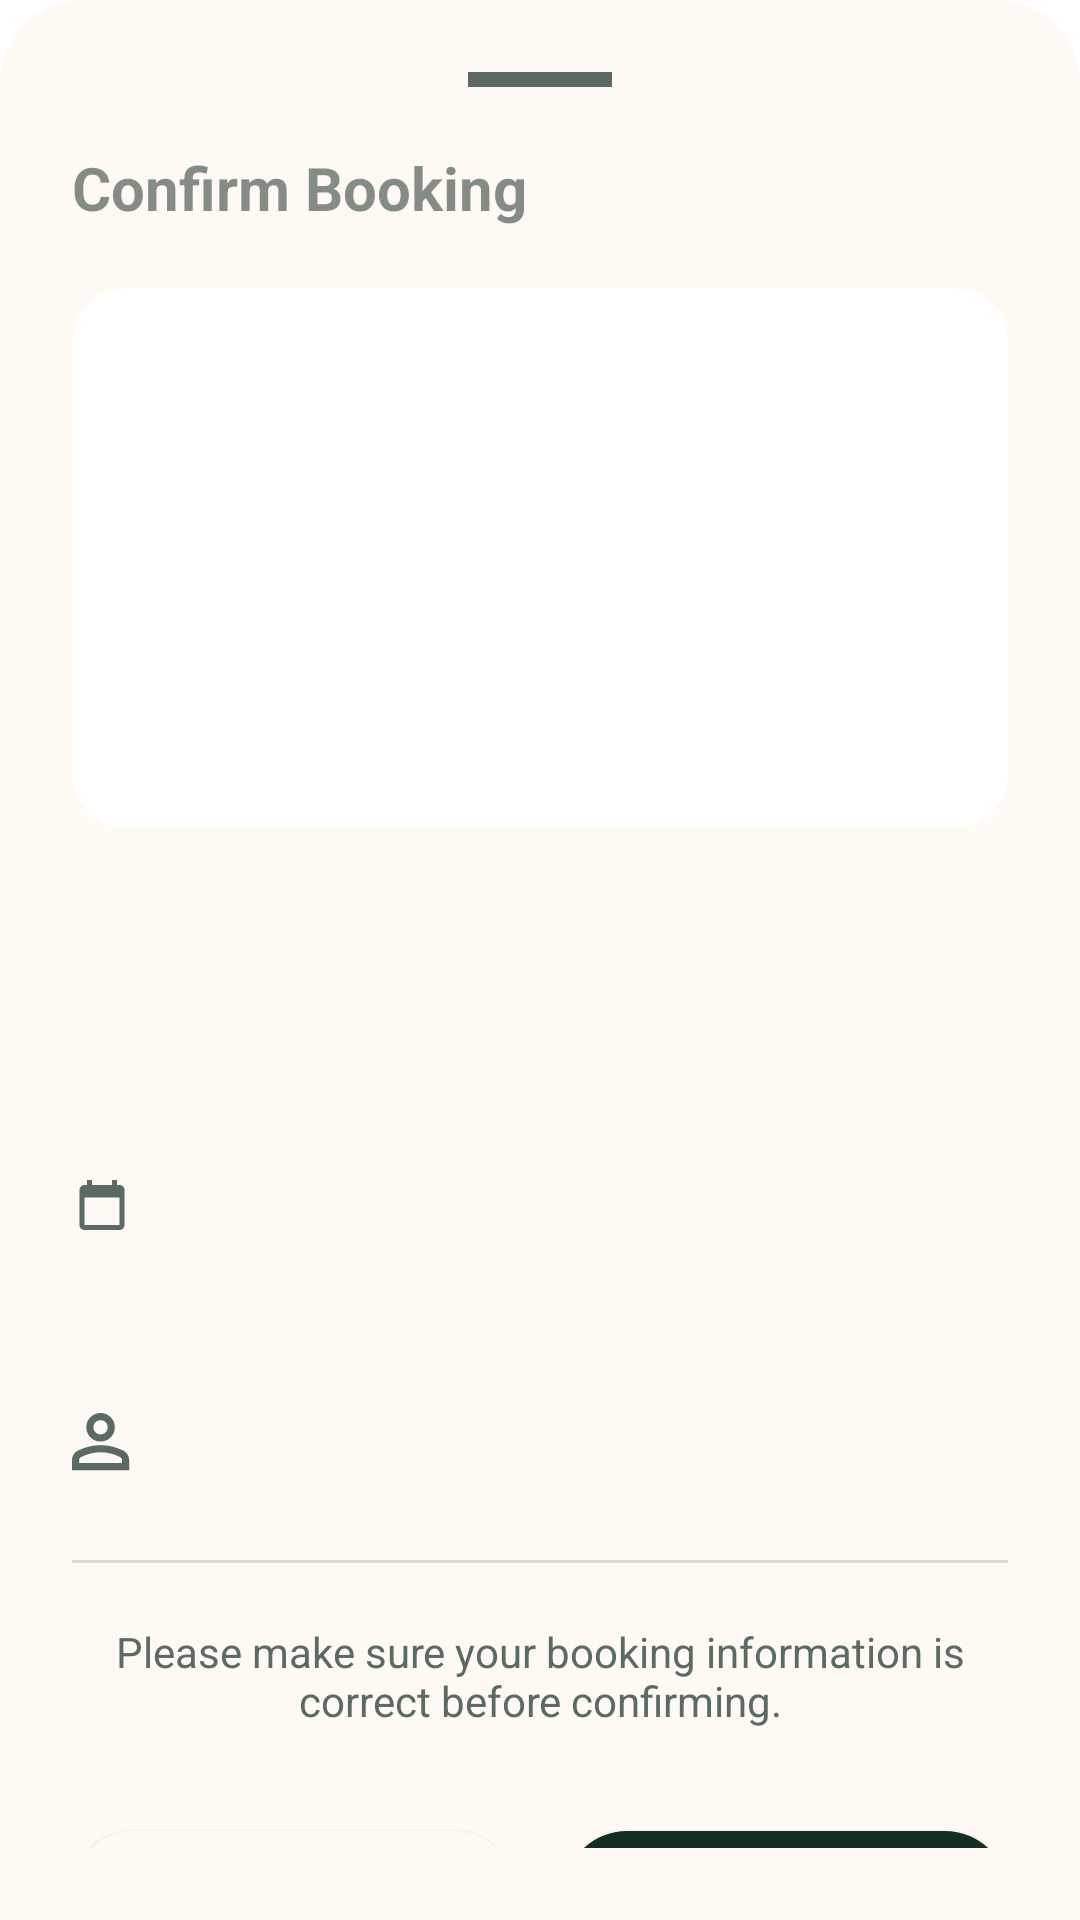

Icon click points for this 1080×1920 phone screenshot, format point (x, y):
calendar: point (102, 1205)
person: point (101, 1442)
